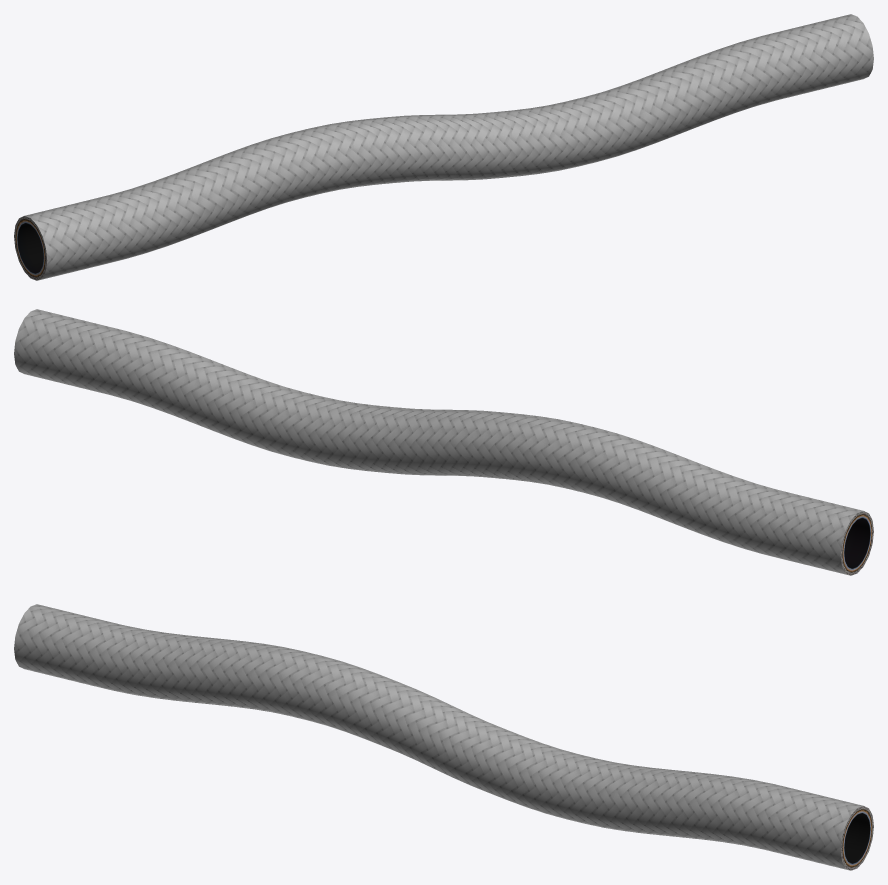
3 renders of one model, top to bottom at view 1: azimuth 30°, elevation 25°; view 2: azimuth 150°, elevation 25°; view 3: azimuth 330°, elevation 25°, orthographic.
Visible parts, largest first — view 1: ProBlack_SB_SS-10; view 2: ProBlack_SB_SS-10; view 3: ProBlack_SB_SS-10.
Boxes of the visible parts, x1,y1,x2,y2 form: ProBlack_SB_SS-10: (14, 14, 873, 280); ProBlack_SB_SS-10: (14, 309, 873, 575); ProBlack_SB_SS-10: (14, 604, 873, 870).
Size of the model in its own units: 0.3074 by 0.0341 by 0.0214.
2 materials, 2 textured.
